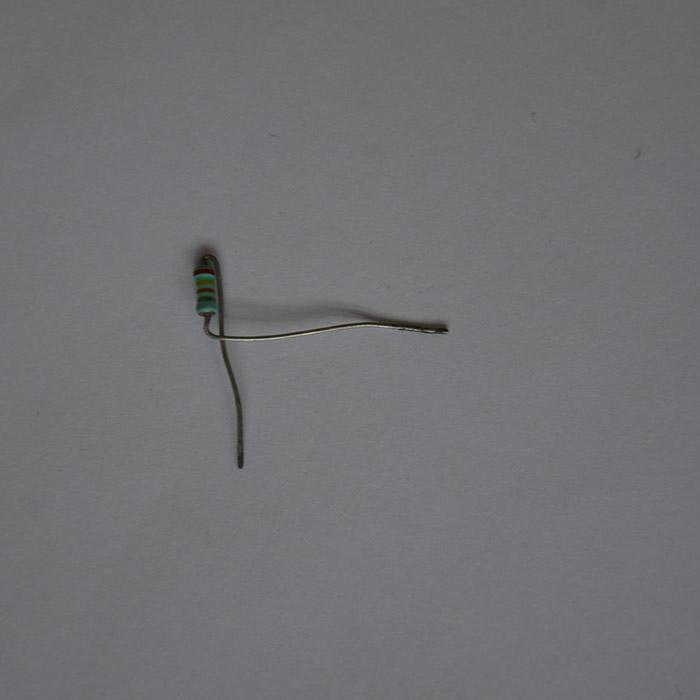resistor: (192, 262, 218, 317)
